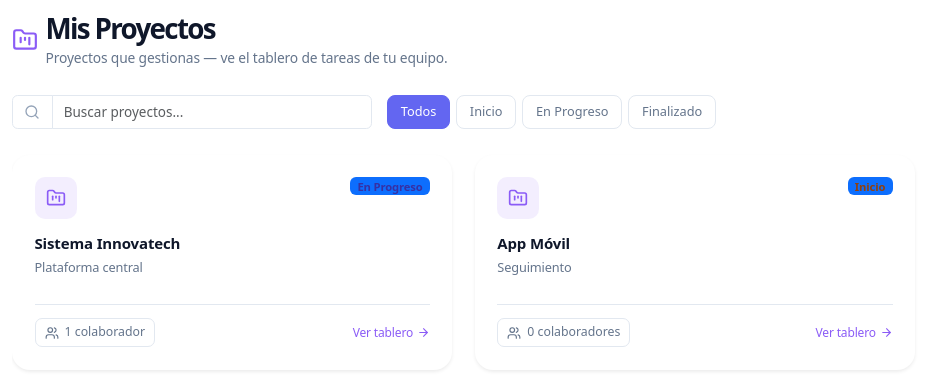
it: GestorProjects › filtra por estado
The image size is (929, 389).
Expected: the heading "Sistema Innovatech" is shown, [34, 234, 180, 254]
Step 1. Click the button "Inicio" → {"x": 486, "y": 112}, box [456, 95, 516, 128]
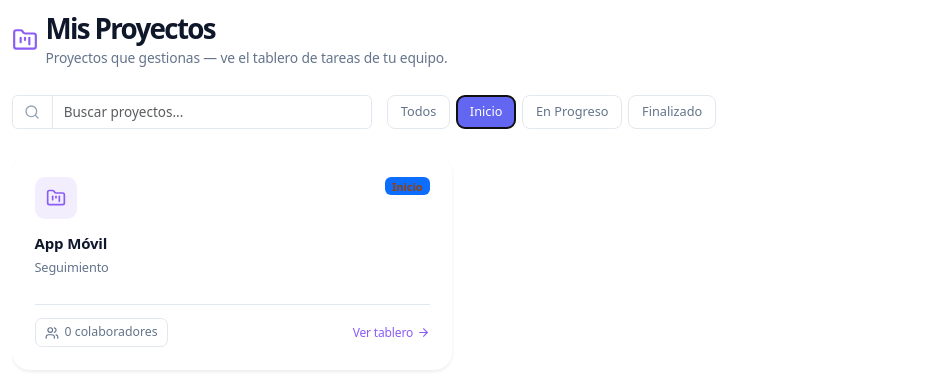
Expected: the heading "App Móvil" is shown, [34, 234, 107, 254]
Result: the heading "Sistema Innovatech" is gone
